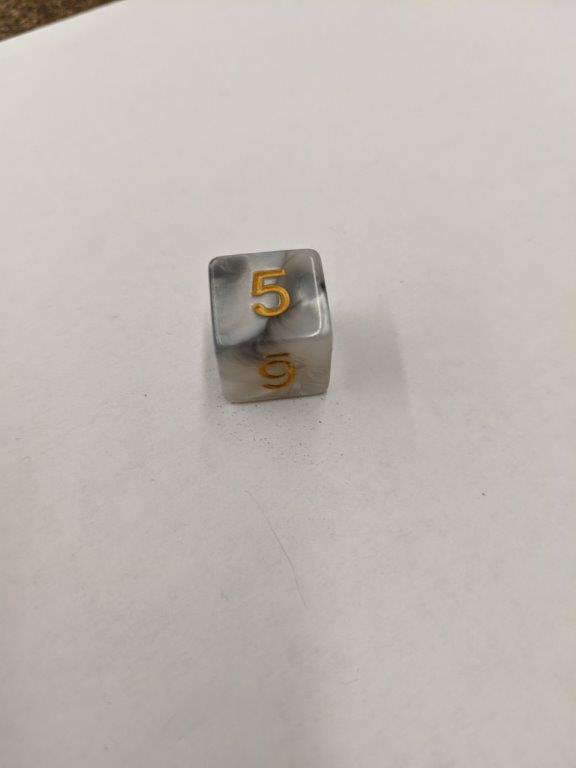d6-5: (207, 246, 336, 405)
